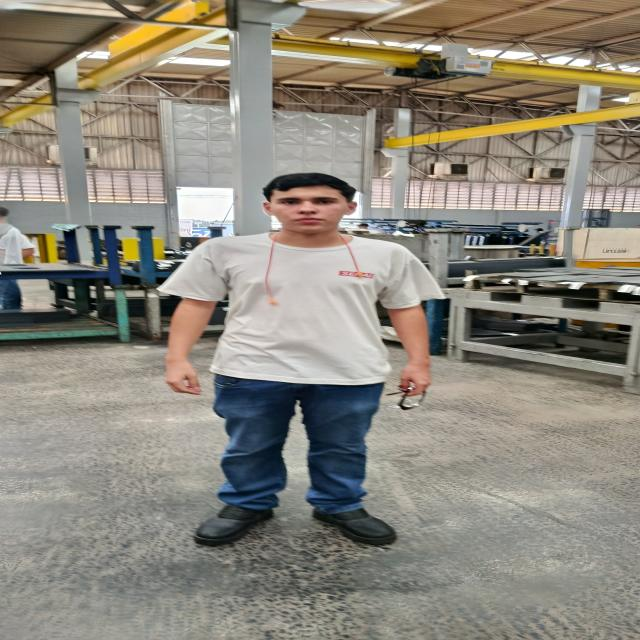sem_oculos: (238, 190, 373, 210)
